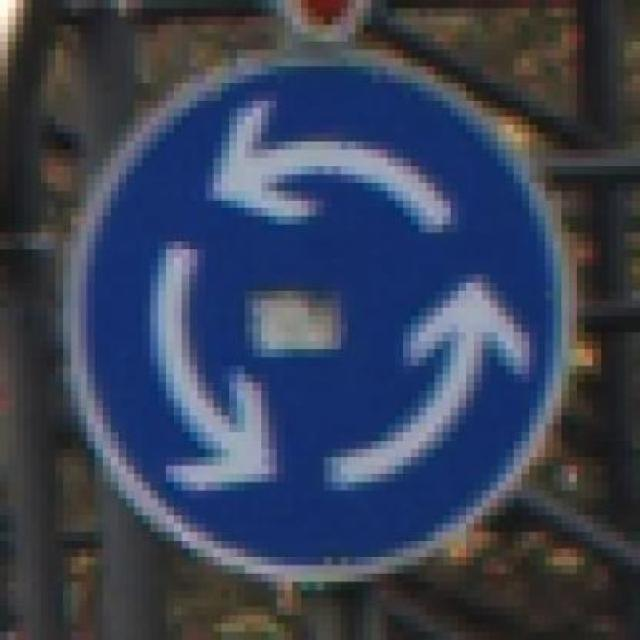Round-About: (55, 41, 600, 607)
